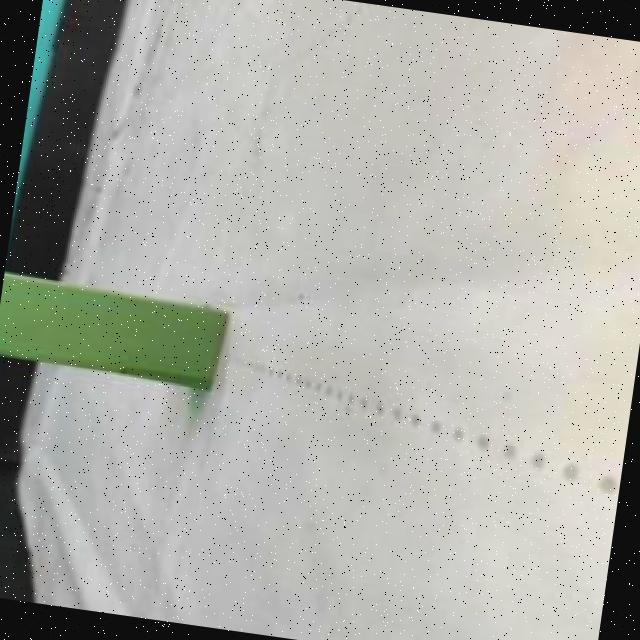greenbox: (0, 273, 229, 391)
